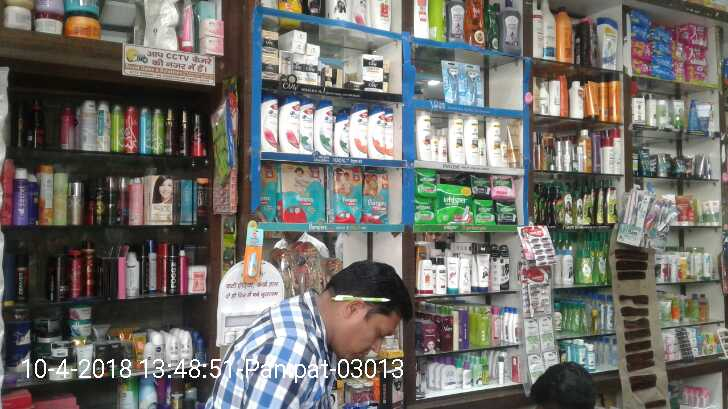venus: (441, 60, 464, 104), (464, 65, 480, 104)
